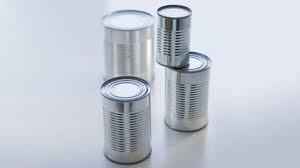Tin: (66, 3, 232, 168)
